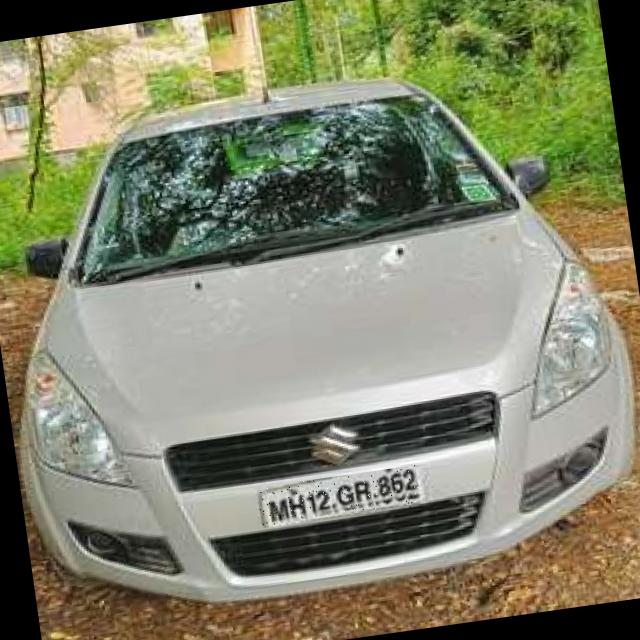Plate: (258, 466, 422, 527)
